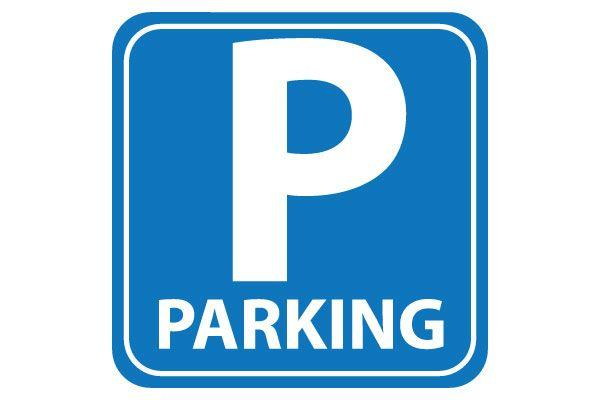parking: (110, 12, 487, 387)
